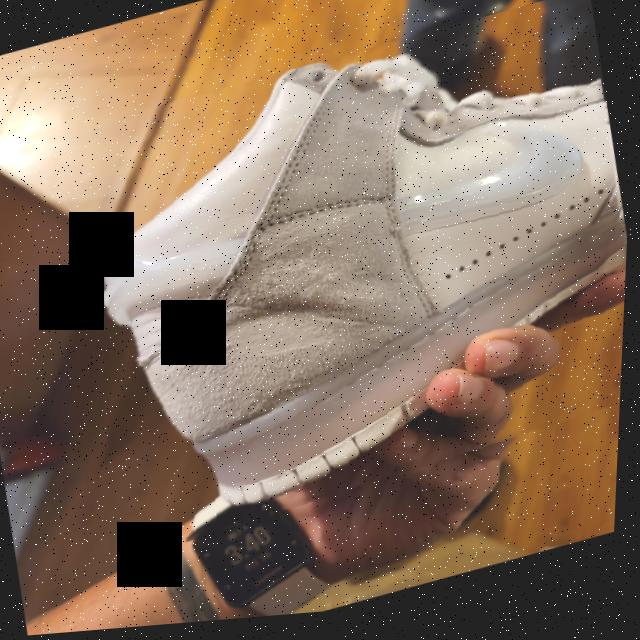shoe: (46, 0, 639, 570)
